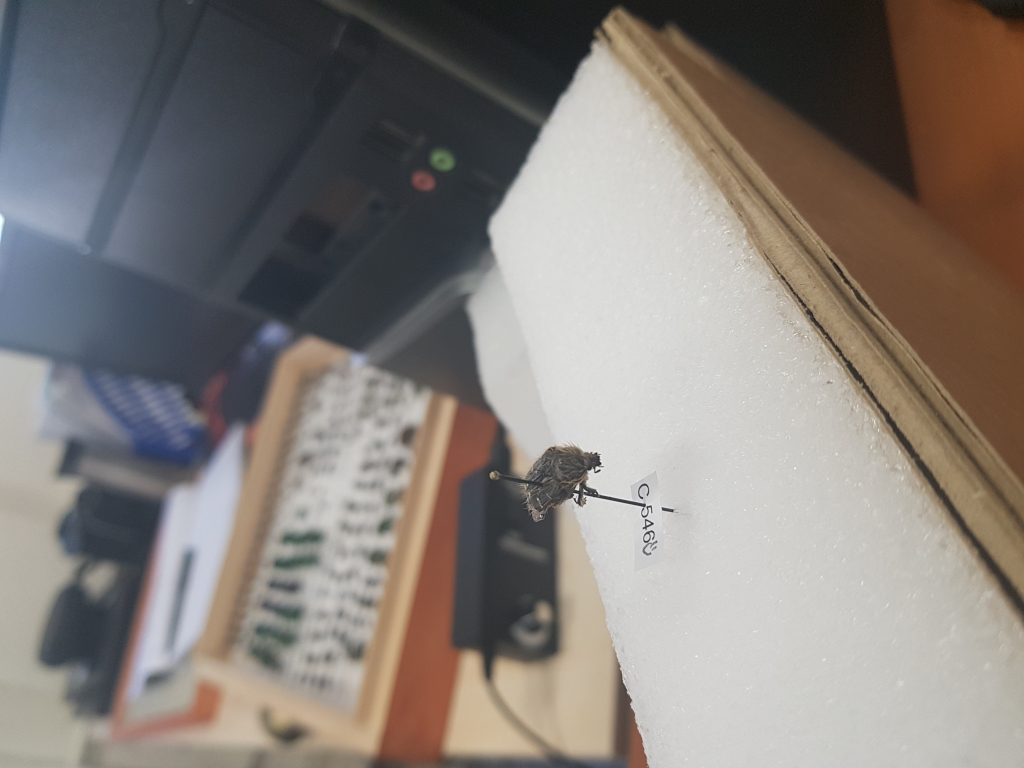Tropinota_senicula: (522, 429, 611, 525)
